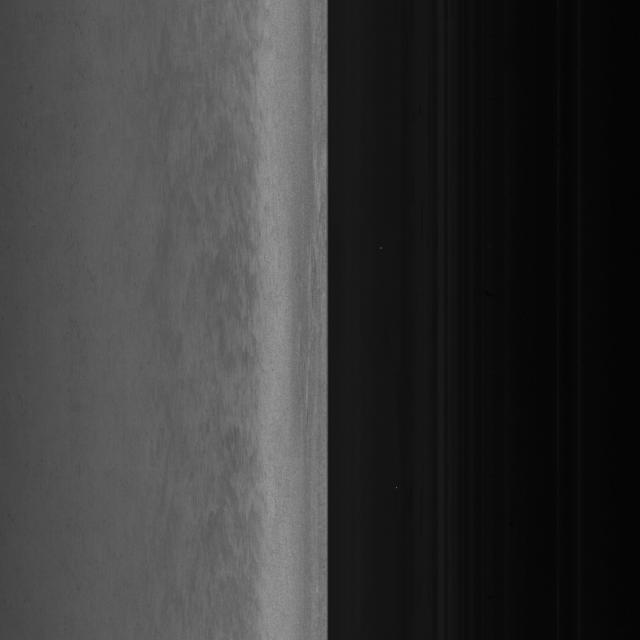inclusion: (182, 139, 278, 594)
